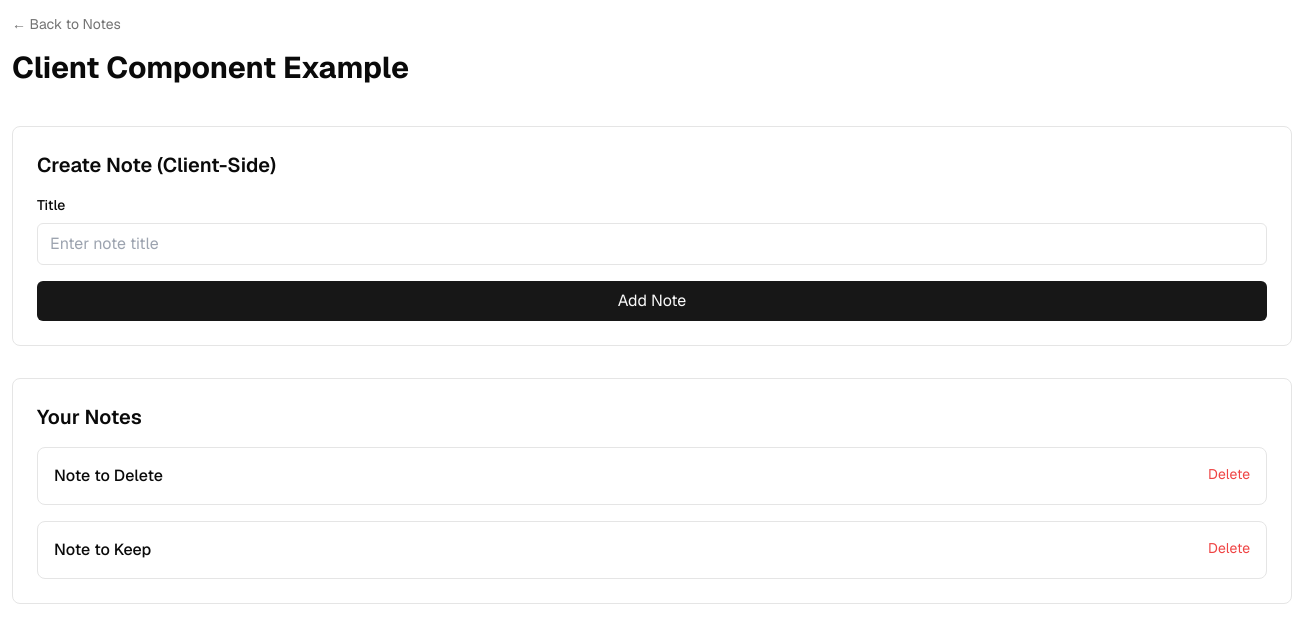
Test case: ClientExamplePage CRUD Operations › Delete Note › should delete note optimistically
Expected: the heading "Note to Delete" is shown, [54,464,163,488]
Click the button "Delete" in the row of "Note to Delete" at (1229, 474), box [1208,464,1250,484]
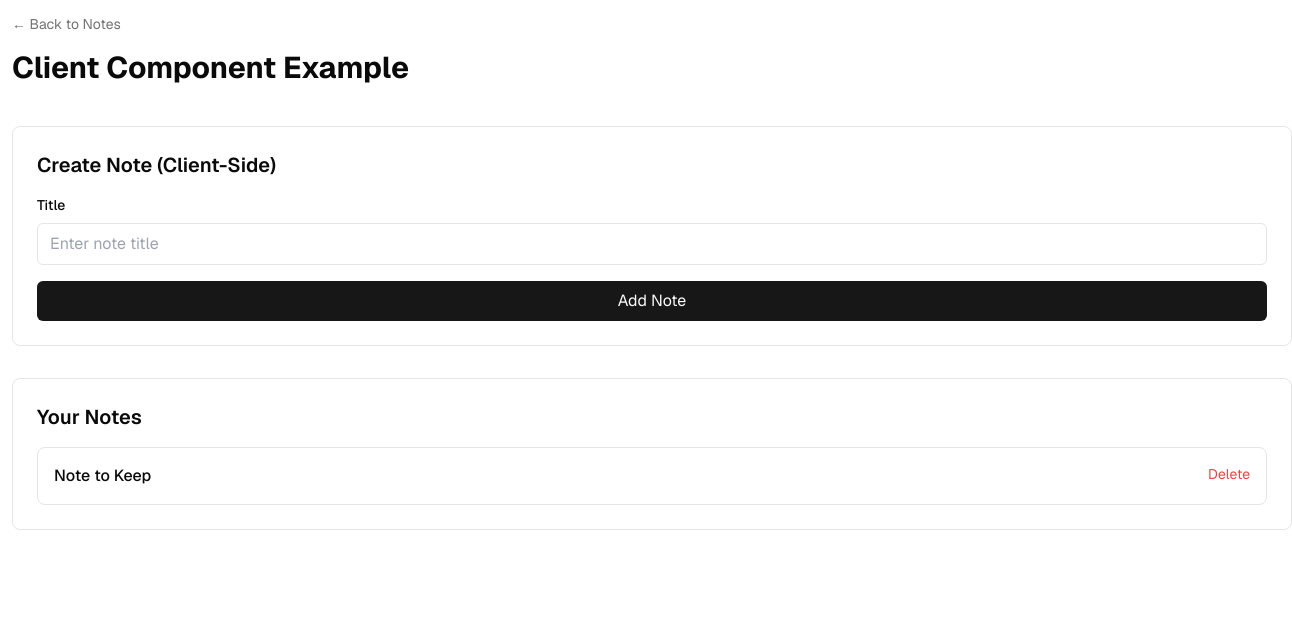
Expected: the heading "Note to Keep" is shown, [54,464,151,488]
Result: the heading "Note to Delete" is gone
